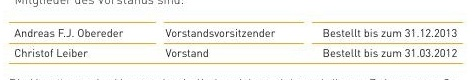table: (0, 0, 475, 80)
